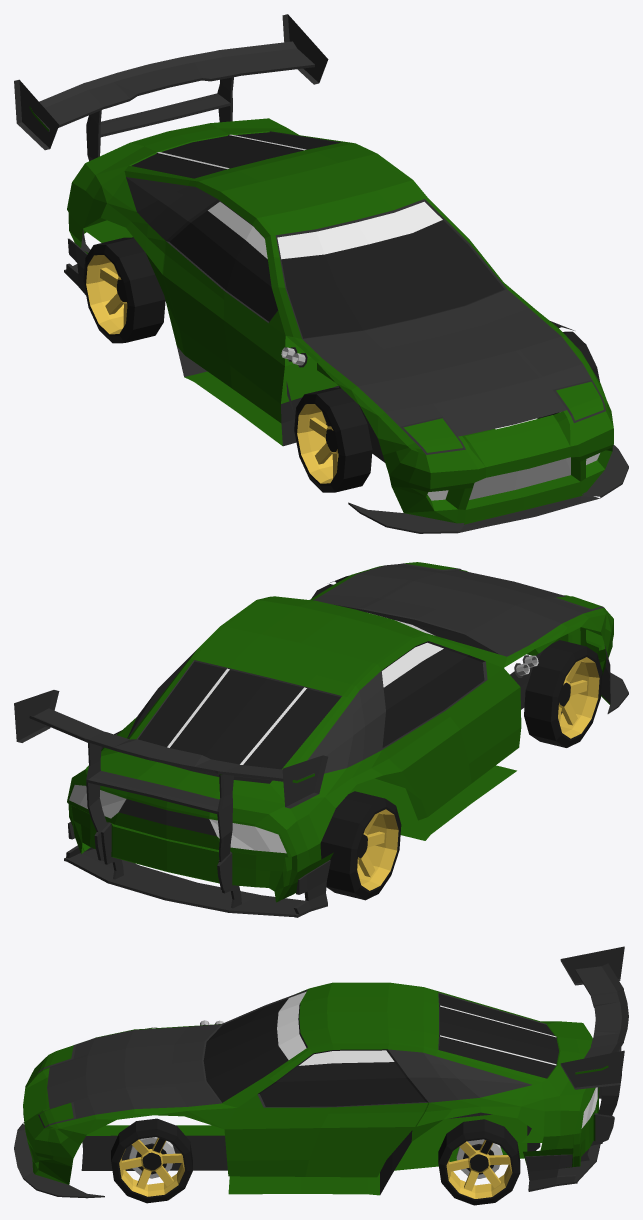
Rendered from low_poly_car_v3_R_blend_rig.fbx.
The picture shows the model from 3 angles, top to bottom: view 1: azimuth 30°, elevation 25°; view 2: azimuth 150°, elevation 25°; view 3: azimuth 270°, elevation 25°; orthographic projection. The views are drawn at different scales.
Visible parts, largest first — view 1: Body, Wheel.Bk.R, Wheel.Ft.R; view 2: Body, Wheel.Bk.R, Wheel.Ft.R; view 3: Body, Wheel.Bk.L, Wheel.Ft.L, WheelBrake.Ft.L, WheelBrake.Bk.L.
Boxes of the visible parts, <box> form: Body: <box>14,14,628,533</box>; Wheel.Bk.R: <box>83,237,165,343</box>; Wheel.Ft.R: <box>294,388,372,492</box>; Body: <box>14,562,628,917</box>; Wheel.Bk.R: <box>320,791,401,900</box>; Wheel.Ft.R: <box>524,640,602,747</box>; Body: <box>14,946,628,1198</box>; Wheel.Bk.L: <box>438,1119,520,1205</box>; Wheel.Ft.L: <box>111,1118,192,1203</box>; WheelBrake.Ft.L: <box>129,1137,175,1178</box>; WheelBrake.Bk.L: <box>456,1139,502,1178</box>.
Bounding box in the file's own units: 155 × 105 × 379.
